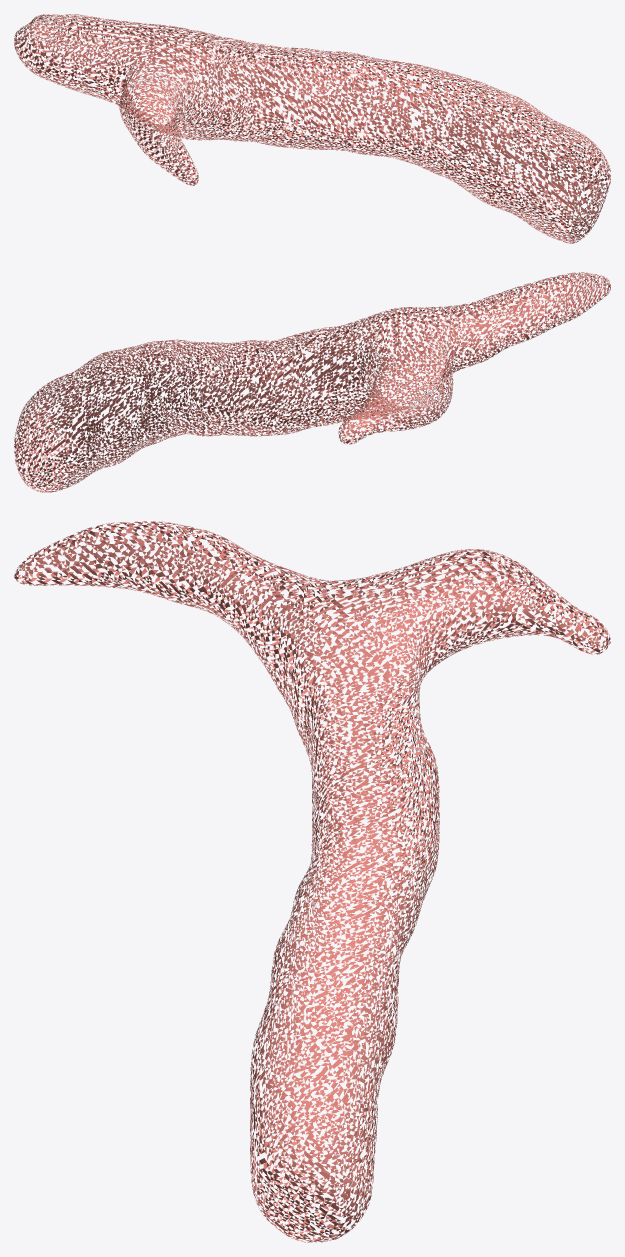
The model's file is morph_001.glb.
3 views of the same model, one above another, from view 1: azimuth 30°, elevation 25°; view 2: azimuth 150°, elevation 25°; view 3: azimuth 270°, elevation 25° (orthographic). The views are drawn at different scales.
Bounding box in the file's own units: 120 × 64.88 × 86.84.
